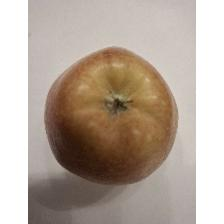Apfel: (42, 44, 182, 188)
